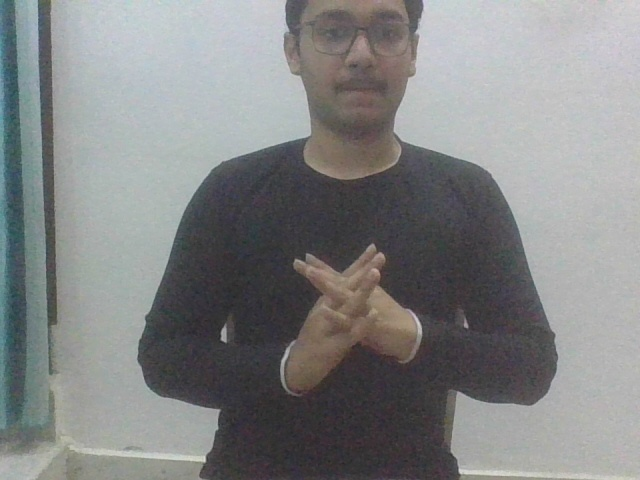W: (280, 242, 426, 399)
